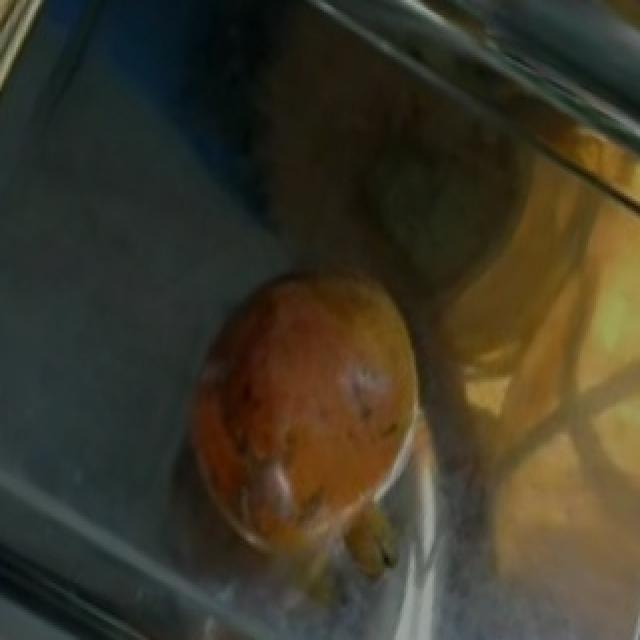fruit: (162, 236, 444, 491)
